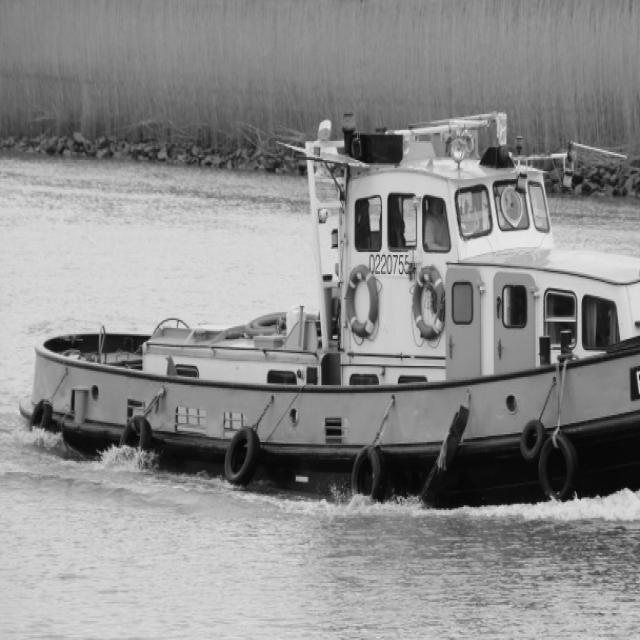tugboat: (14, 95, 640, 563)
